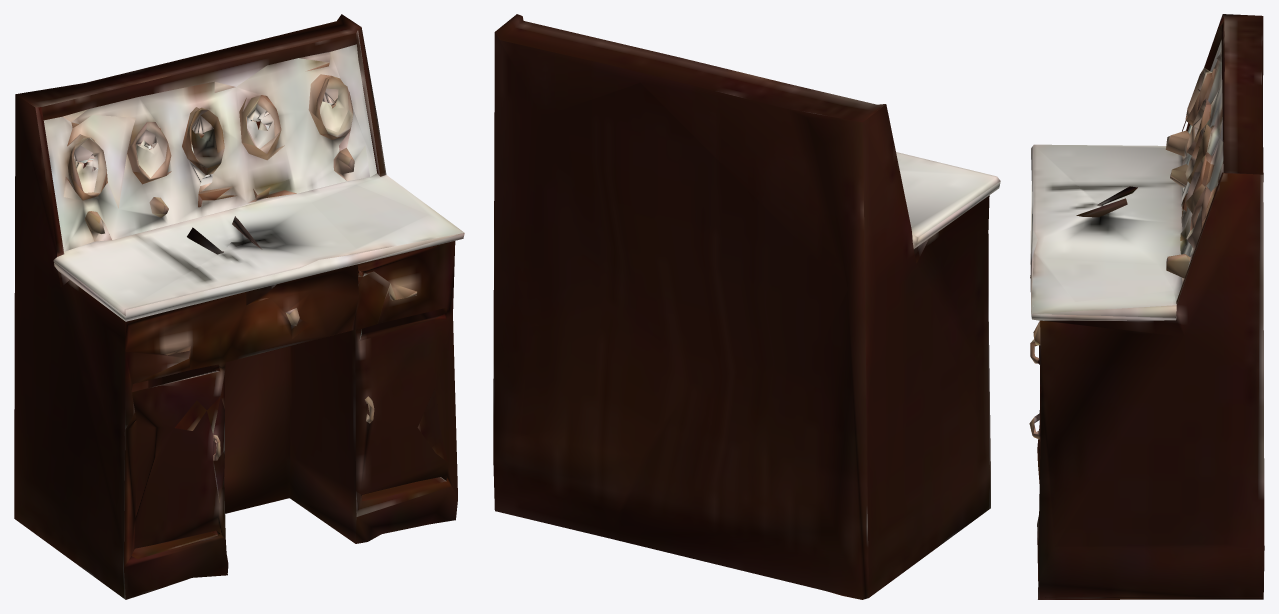
Rendered from mandos_rx.movil.glb.
The picture shows the model from 3 angles, left to right: view 1: azimuth 30°, elevation 25°; view 2: azimuth 150°, elevation 25°; view 3: azimuth 270°, elevation 25°; orthographic projection. The views are drawn at different scales.
Parts seen in each view (by area): view 1: geometry_0; view 2: geometry_0; view 3: geometry_0.
Part boxes in pixels (bbox=[...]): geometry_0: bbox=[14, 14, 464, 599]; geometry_0: bbox=[493, 14, 1000, 599]; geometry_0: bbox=[1029, 14, 1264, 599].
Size of the model in its own units: 0.9967 by 1.2 by 0.5972.
Materials: 1 (1 with a texture image).
